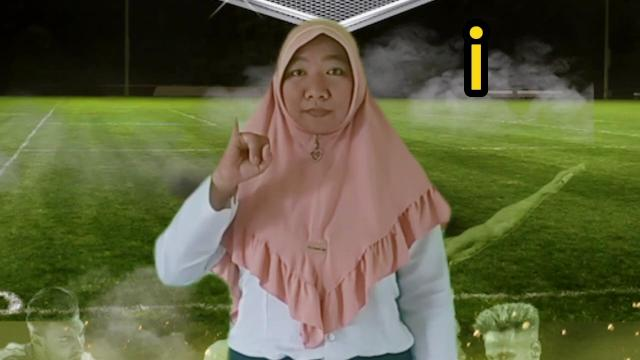I: (222, 115, 274, 189)
